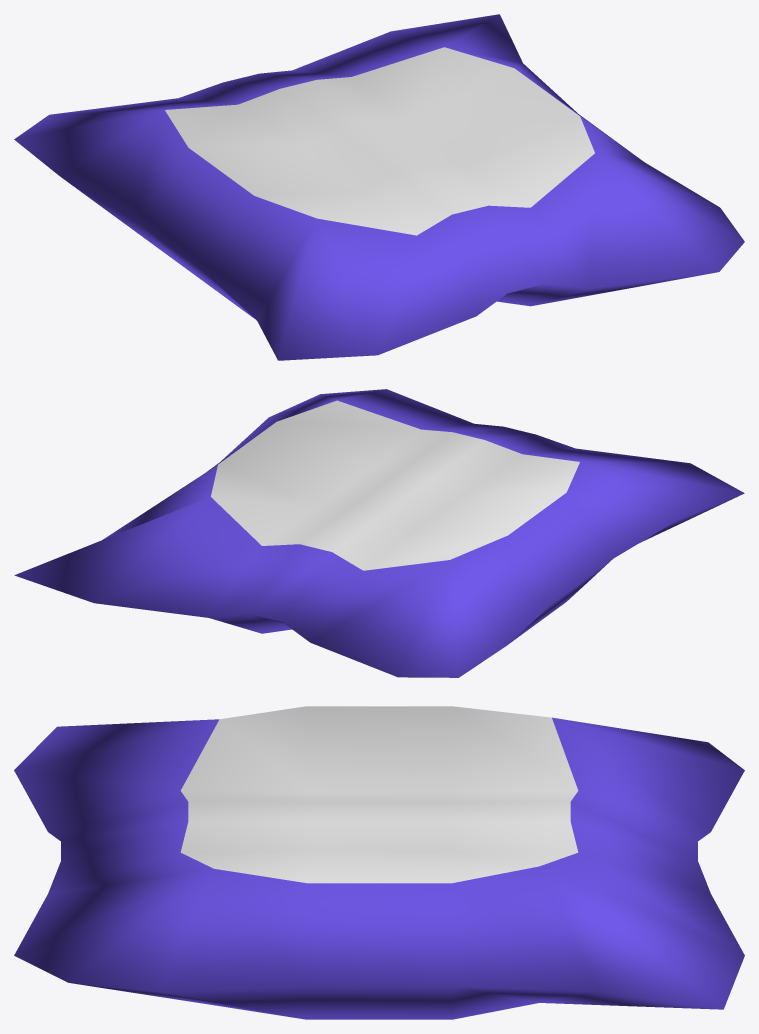
File: Pillow.fbx
3 renders of one model, top to bottom at view 1: azimuth 30°, elevation 25°; view 2: azimuth 150°, elevation 25°; view 3: azimuth 270°, elevation 25°, orthographic. The views are drawn at different scales.
Visible parts, largest first — view 1: Cube; view 2: Cube; view 3: Cube.
Boxes of the visible parts, x1,y1,x2,y2 form: Cube: (14,14,744,360); Cube: (14,389,744,677); Cube: (14,706,744,1019).
Bounding box in the file's own units: 183 × 41.21 × 200.
